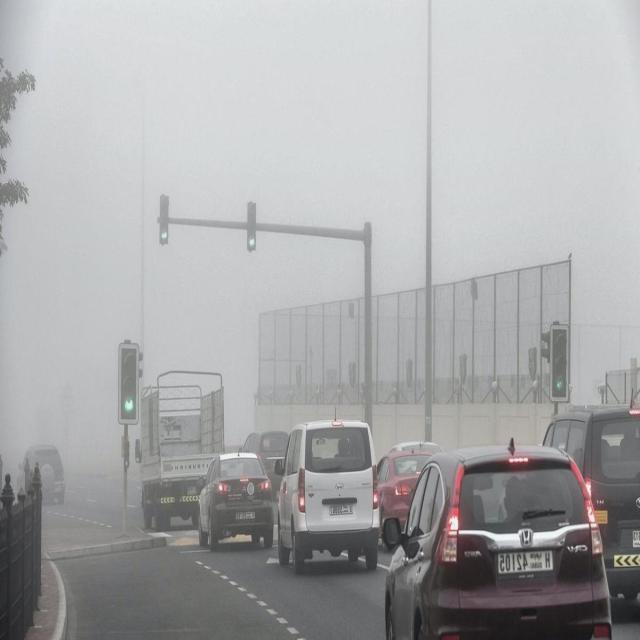Car: (387, 433, 608, 639), (542, 414, 640, 599), (201, 445, 274, 560), (371, 405, 434, 532), (245, 414, 296, 495), (26, 431, 72, 516)
Truck: (137, 357, 228, 530)
Van: (277, 403, 376, 581)
